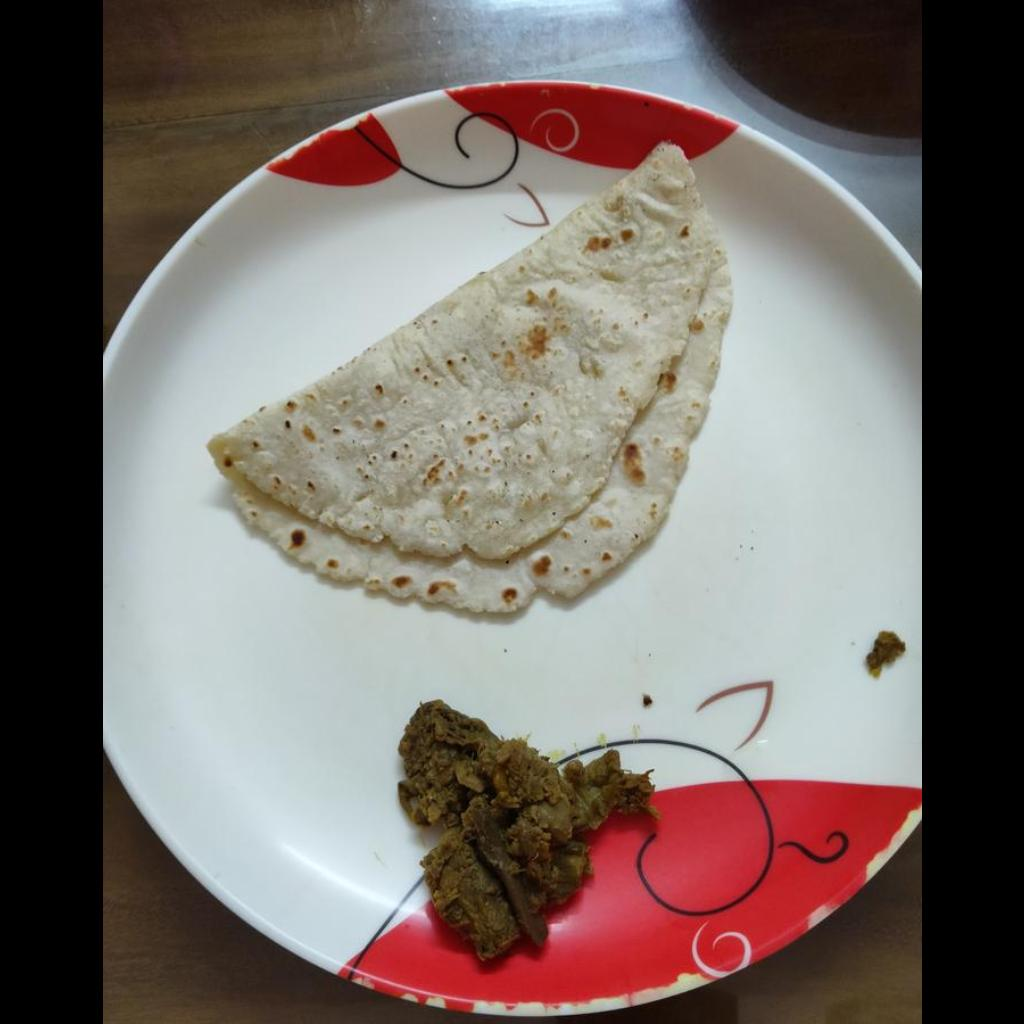ruti: (208, 140, 731, 615)
vorta: (395, 699, 651, 971)
